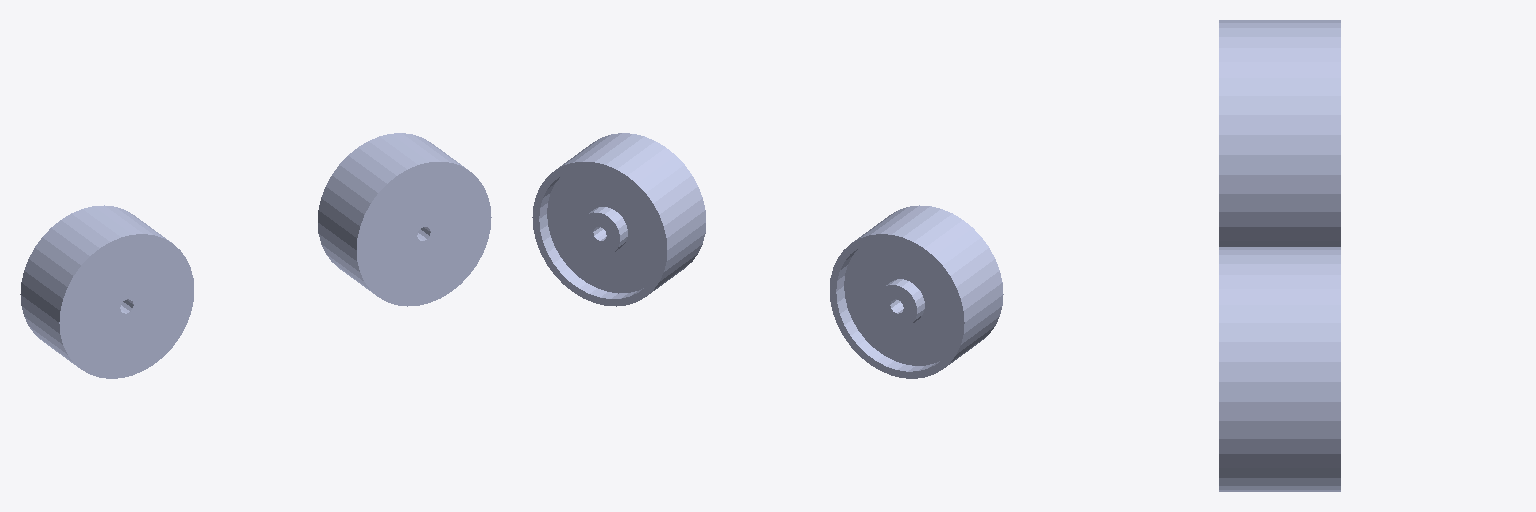
robot.urdf — robot_base:
<?xml version="1.0"?>

<robot name="robot_base">
  <link name="base_link">
    <inertial>
      <origin
        xyz="0.0030946 4.78250032638821E-11 0.053305"
        rpy="0 0 0" />
      <mass
        value="47.873" />
      <inertia
        ixx="0.774276574699151"
        ixy="-1.03781944357671E-10"
        ixz="0.00763014265820928"
        iyy="1.64933255189991"
        iyz="1.09578155845563E-12"
        izz="2.1239326987473" />
    </inertial>
    <visual>
      <origin
        xyz="0 0 0"
        rpy="1.5707963267949 0 3.14" />
      <geometry>
        <mesh filename="package://mobile_manipulator_body/meshes/robot_base.stl" />
      </geometry>
      <material
        name="">
        <color
          rgba="0.79216 0.81961 0.93333 1" />
      </material>
    </visual>
    <collision>
      <origin
        xyz="0 0 0"
        rpy="1.5707963267949 0 3.14" />
      <geometry>
        <mesh filename="package://mobile_manipulator_body/meshes/robot_base.stl" />
      </geometry>
    </collision>
  </link>

<link name="front_left_wheel">
    <inertial>
      <origin
        xyz="-4.1867E-18 0.0068085 -1.65658661799998E-18"
        rpy="0 0 0" />
      <mass
        value="2.6578" />
      <inertia
        ixx="0.00856502765719703"
        ixy="1.5074118157338E-19"
        ixz="-4.78150098725052E-19"
        iyy="0.013670640432096"
        iyz="-2.68136447099727E-19"
        izz="0.00856502765719703" />
    </inertial>
    <visual>
      <origin
        xyz="0 0 0"
        rpy="1.5707963267949 0 0" />
      <geometry>
        <mesh filename="package://mobile_manipulator_body/meshes/wheelsv.stl" />
      </geometry>
      <material
        name="">
        <color
          rgba="0.79216 0.81961 0.93333 1" />
      </material>
    </visual>
    <collision>
      <origin
        xyz="0 0 0"
        rpy="1.5707963267949 0 0" />
      <geometry>
        <mesh filename="package://mobile_manipulator_body/meshes/wheelsv.stl" />
      </geometry>
    </collision>
  </link>

<link name="front_right_wheel">
    <inertial>
      <origin
        xyz="-4.1867E-18 0.0068085 -1.65658661799998E-18"
        rpy="0 0 0" />
      <mass
        value="2.6578" />
      <inertia
        ixx="0.00856502765719703"
        ixy="1.5074118157338E-19"
        ixz="-4.78150098725052E-19"
        iyy="0.013670640432096"
        iyz="-2.68136447099727E-19"
        izz="0.00856502765719703" />
    </inertial>
    <visual>
      <origin
        xyz="0 0 0"
        rpy="1.5707963267949 0 0" />
      <geometry>
        <mesh filename="package://mobile_manipulator_body/meshes/wheel.stl" />
      </geometry>
      <material
        name="">
        <color
          rgba="0.79216 0.81961 0.93333 1" />
      </material>
    </visual>
    <collision>
      <origin
        xyz="0 0 0"
        rpy="1.5707963267949 0 0" />
      <geometry>
        <mesh filename="package://mobile_manipulator_body/meshes/wheel.stl" />
      </geometry>
    </collision>
  </link>

<link name="rear_left_wheel">
    <inertial>
      <origin
        xyz="-4.1867E-18 0.0068085 -1.65658661799998E-18"
        rpy="0 0 0" />
      <mass
        value="2.6578" />
      <inertia
        ixx="0.00856502765719703"
        ixy="1.5074118157338E-19"
        ixz="-4.78150098725052E-19"
        iyy="0.013670640432096"
        iyz="-2.68136447099727E-19"
        izz="0.00856502765719703" />
    </inertial>
    <visual>
      <origin
        xyz="0 0 0"
        rpy="1.5707963267949 0 0" />
      <geometry>
        <mesh filename="package://mobile_manipulator_body/meshes/wheelsv.stl" />
      </geometry>
      <material
        name="">
        <color
          rgba="0.79216 0.81961 0.93333 1" />
      </material>
    </visual>
    <collision>
      <origin
        xyz="0 0 0"
        rpy="1.5707963267949 0 0" />
      <geometry>
        <mesh filename="package://mobile_manipulator_body/meshes/wheelsv.stl" />
      </geometry>
    </collision>
  </link>

<link name="rear_right_wheel">
    <inertial>
      <origin
        xyz="-4.1867E-18 0.0068085 -1.65658661799998E-18"
        rpy="0 0 0" />
      <mass
        value="2.6578" />
      <inertia
        ixx="0.00856502765719703"
        ixy="1.5074118157338E-19"
        ixz="-4.78150098725052E-19"
        iyy="0.013670640432096"
        iyz="-2.68136447099727E-19"
        izz="0.00856502765719703" />
    </inertial>
    <visual>
      <origin
        xyz="0 0 0"
        rpy="1.5707963267949 0 0" />
      <geometry>
        <mesh filename="package://mobile_manipulator_body/meshes/wheel.stl" />
      </geometry>
      <material
        name="">
        <color
          rgba="0.79216 0.81961 0.93333 1" />
      </material>
    </visual>
    <collision>
      <origin
        xyz="0 0 0"
        rpy="1.5707963267949 0 0" />
      <geometry>
        <mesh filename="package://mobile_manipulator_body/meshes/wheel.stl" />
      </geometry>
    </collision>
  </link>


<joint name="front_left_wheel_joint" type="continuous">
    <axis xyz="0 1 0"/>
    <parent link ="base_link"/>
    <child link ="front_left_wheel"/>
    <origin rpy ="0 0 0" xyz= "0.220 0.250 0"/>
  </joint>


<joint name="front_right_wheel_joint" type="continuous">
    <axis xyz="0 1 0"/>
    <parent link ="base_link"/>
    <child link ="front_right_wheel"/>
    <origin rpy ="0 0 0" xyz= "0.220 -0.250 0"/>
  </joint>

<joint name="rear_left_wheel_joint" type="continuous">
    <axis xyz="0 1 0"/>
    <parent link ="base_link"/>
    <child link ="rear_left_wheel"/>
    <origin rpy ="0 0 0" xyz= "-0.220 0.250 0"/>
  </joint>

<joint name="rear_right_wheel_joint" type="continuous">
    <axis xyz="0 1 0"/>
    <parent link ="base_link"/>
    <child link ="rear_right_wheel"/>
    <origin rpy ="0 0 0" xyz= "-0.220 -0.250 0"/>
  </joint>
<!--######################################################################-->
<gazebo>
    <plugin name="gazebo_ros_control" filename="libgazebo_ros_control.so">
      <robotNamespace>/</robotNamespace>
      <controlPeriod>0.001</controlPeriod>
      <legacyModeNS>false</legacyModeNS>
    </plugin>
  </gazebo>
<!--######################################################################-->
<gazebo>
      <plugin name="diff_drive_controller" filename="libgazebo_ros_diff_drive.so">
        <legacyMode>false</legacyMode>
        <alwaysOn>true</alwaysOn>
        <updateRate>1000.0</updateRate>
        <leftJoint>front_left_wheel_joint, rear_left_wheel_joint</leftJoint>
        <rightJoint>front_right_wheel_joint, rear_right_wheel_joint</rightJoint>
        <wheelSeparation>0.5</wheelSeparation>
        <wheelDiameter>0.2</wheelDiameter>
        <wheelTorque>10</wheelTorque>
        <publishTf>1</publishTf>
        <odometryFrame>map</odometryFrame>
        <commandTopic>cmd_vel</commandTopic>
        <odometryTopic>odom</odometryTopic>
        <robotBaseFrame>base_link</robotBaseFrame>
        <wheelAcceleration>2.8</wheelAcceleration>
        <publishWheelJointState>true</publishWheelJointState>
        <publishWheelTF>false</publishWheelTF>
        <odometrySource>world</odometrySource>
        <rosDebugLevel>Debug</rosDebugLevel>
      </plugin>
</gazebo>
<!--######################################################################-->
<gazebo reference="front_left_wheel">
 <mu1 value="1.0"/>
 <mu2 value="1.0"/>
 <kp value="10000000.0" />
 <kd value="1.0" />
 <fdir1 value="1 0 0"/>
</gazebo>

<gazebo reference="front_right_wheel">
 <mu1 value="1.0"/>
 <mu2 value="1.0"/>
 <kp value="10000000.0" />
 <kd value="1.0" />
 <fdir1 value="1 0 0"/>
</gazebo>

<gazebo reference="rear_left_wheel">
 <mu1 value="1.0"/>
 <mu2 value="1.0"/>
 <kp value="10000000.0" />
 <kd value="1.0" />
 <fdir1 value="1 0 0"/>
</gazebo>

<gazebo reference="rear_left_wheel">
 <mu1 value="1.0"/>
 <mu2 value="1.0"/>
 <kp value="10000000.0" />
 <kd value="1.0" />
 <fdir1 value="1 0 0"/>
</gazebo>
<!--######################################################################-->
<transmission name="front_left_wheel_trans" type="SimpleTransmission">
  <type>transmission_interface/SimpleTransmission</type>
  <actuator name="front_left_wheel_motor">
   <hardwareInterface>hardware_interface/VelocityJointInterface</hardwareInterface>
   <mechanicalReduction>1</mechanicalReduction>
  </actuator>
  <joint name="front_left_wheel_joint">
   <hardwareInterface>hardware_interface/VelocityJointInterface</hardwareInterface>
  </joint>
</transmission>

<transmission name="front_right_wheel_trans" type="SimpleTransmission">
  <type>transmission_interface/SimpleTransmission</type>
  <actuator name="front_right_wheel_motor">
   <hardwareInterface>hardware_interface/VelocityJointInterface</hardwareInterface>
   <mechanicalReduction>1</mechanicalReduction>
  </actuator>
  <joint name="front_right_wheel_joint">
   <hardwareInterface>hardware_interface/VelocityJointInterface</hardwareInterface>
  </joint>
</transmission>

<transmission name="rear_left_wheel_trans" type="SimpleTransmission">
  <type>transmission_interface/SimpleTransmission</type>
  <actuator name="rear_left_wheel_motor">
   <hardwareInterface>hardware_interface/VelocityJointInterface</hardwareInterface>
   <mechanicalReduction>1</mechanicalReduction>
  </actuator>
  <joint name="rear_left_wheel_joint">
   <hardwareInterface>hardware_interface/VelocityJointInterface</hardwareInterface>
  </joint>
</transmission>

<transmission name="rear_right_wheel_trans" type="SimpleTransmission">
  <type>transmission_interface/SimpleTransmission</type>
  <actuator name="rear_right_wheel_motor">
   <hardwareInterface>hardware_interface/VelocityJointInterface</hardwareInterface>
   <mechanicalReduction>1</mechanicalReduction>
  </actuator>
  <joint name="rear_right_wheel_joint">
   <hardwareInterface>hardware_interface/VelocityJointInterface</hardwareInterface>
  </joint>
</transmission>
<!--######################################################################-->
</robot>

--- What the picture shows (computed from the rendered views, not written in the file) ---
Views: 3 orthographic renders of the robot side by side, from view 1: azimuth 30°, elevation 25°; view 2: azimuth 150°, elevation 25°; view 3: azimuth 270°, elevation 25°.
Model robot_base with 5 links and 4 joints (4 continuous), rooted at base_link, posed all joints at 0.
Visible links, largest first — view 1: front_left_wheel, rear_left_wheel; view 2: front_left_wheel, rear_left_wheel; view 3: front_left_wheel, rear_left_wheel.
Link boxes in pixels (x1,y1,x2,y2): front_left_wheel: (318,133,491,306); rear_left_wheel: (20,205,193,378); front_left_wheel: (532,133,705,306); rear_left_wheel: (830,205,1003,378); front_left_wheel: (1219,247,1340,491); rear_left_wheel: (1219,20,1340,246).
Bounding box of the posed robot: 0.64 × 0.1 × 0.1993 m (x, y, z).
2 mesh visuals loaded from 3 distinct referenced files (1 binary STL); not drawn: 3 (reference not matched to a file when rendering).